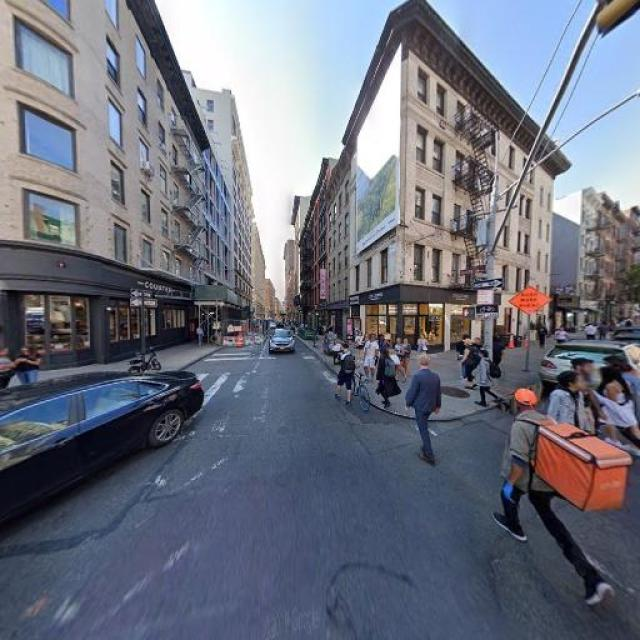Building: (1, 1, 205, 372), (352, 1, 497, 358)
